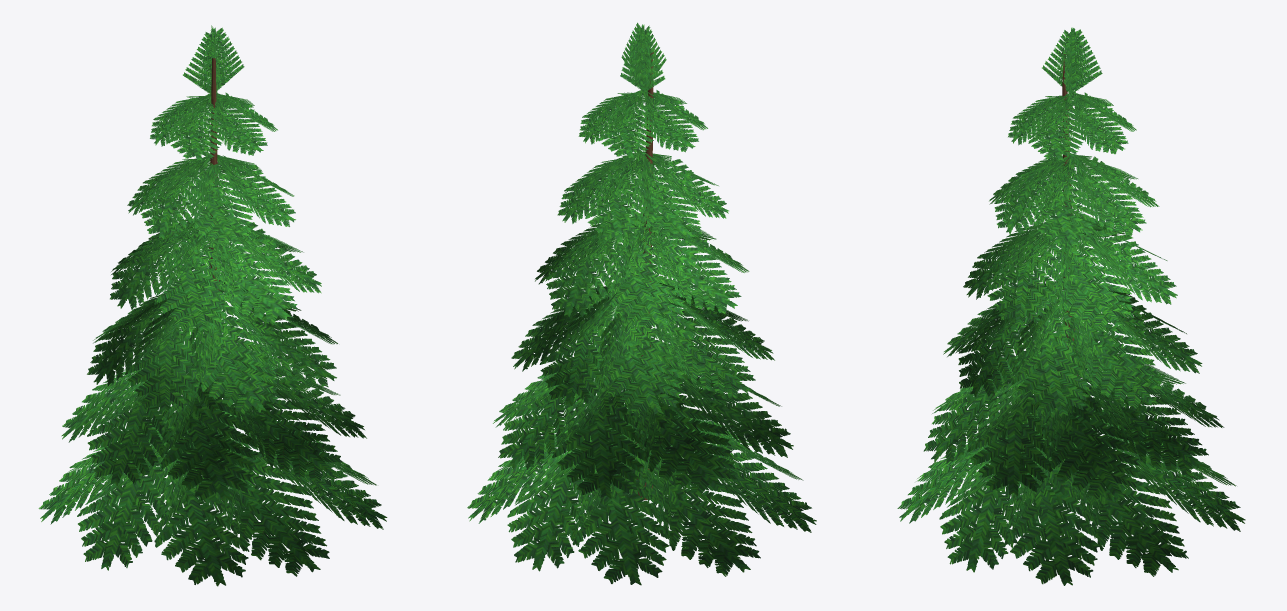
Rendered from leafcard_fir.glb.
3 views of the same model, side by side, from view 1: azimuth 30°, elevation 25°; view 2: azimuth 150°, elevation 25°; view 3: azimuth 270°, elevation 25° (orthographic).
Parts seen in each view (by area): view 1: leafcard_fir; view 2: leafcard_fir; view 3: leafcard_fir.
Part boxes in pixels (box(x1,y1,x2,y2)): leafcard_fir: box(38, 25, 387, 586); leafcard_fir: box(467, 22, 816, 585); leafcard_fir: box(897, 27, 1245, 585).
Size of the model in its own units: 5.54 by 7.46 by 5.57.
Materials: 2 (2 with a texture image).
